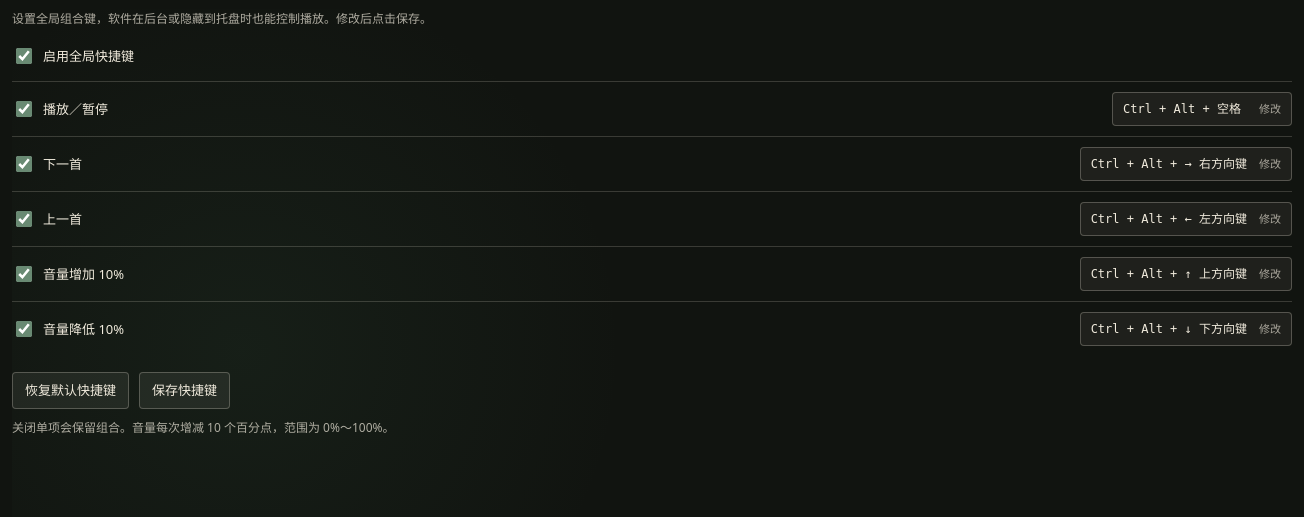
Scenario: keeps drafts after a conflict, reports failure, and allows retry
expect the button "保存快捷键" is enabled: met, box [139,372,230,409]
Click the checkbox named "启用下一首快捷键": (24, 164) [16,156,32,172]
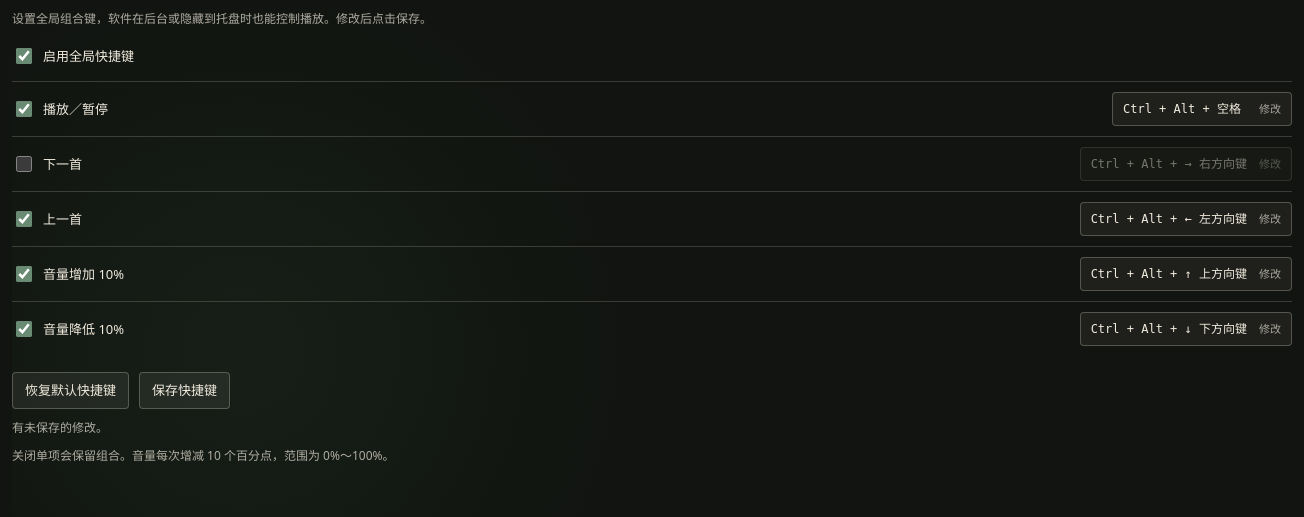
Click the button "保存快捷键": (184, 391) [139,372,230,409]
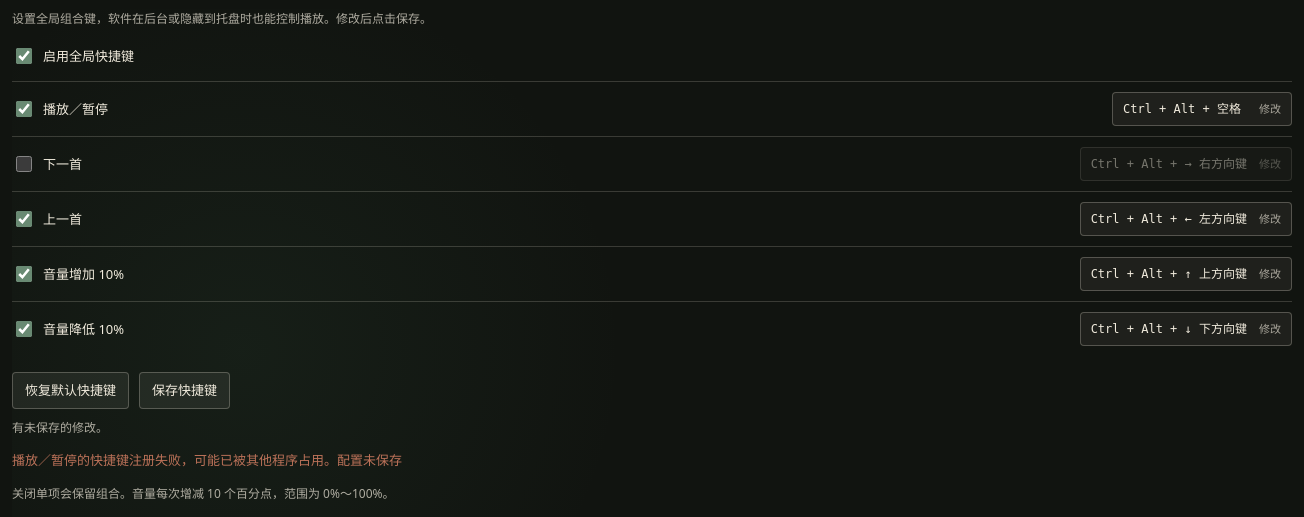
expect the text "快捷键已保存并生效" is not shown: met
expect the checkbox named "启用下一首快捷键" is not checked: met, box [16,156,32,172]
expect the message shows "配置未保存": met, box [12,451,402,469]
Click the button "保存快捷键": (184, 391) [139,372,230,409]
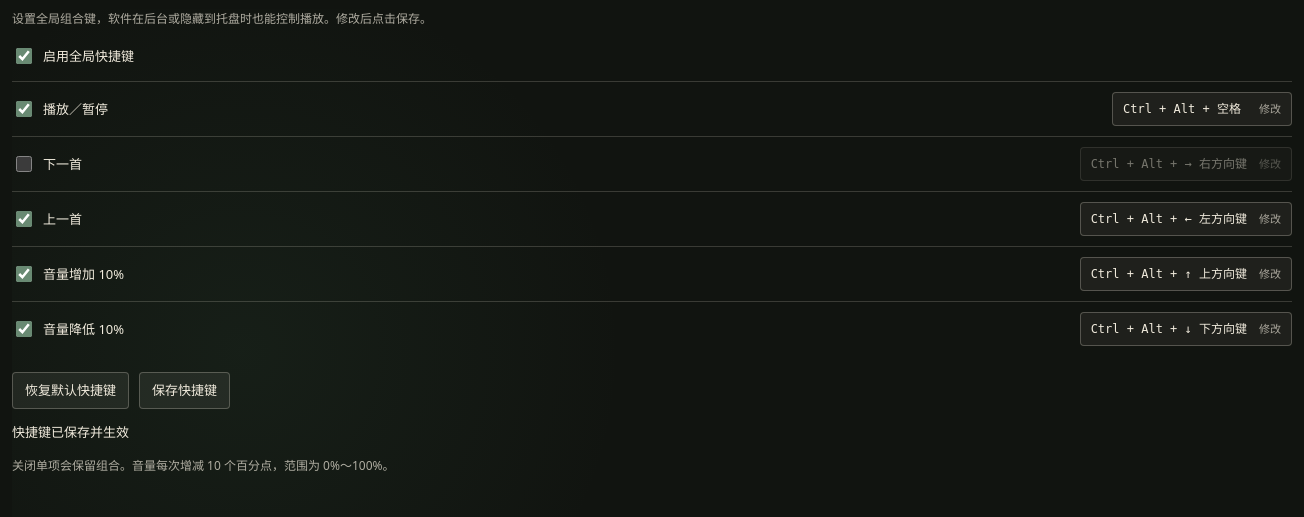
expect the text "快捷键已保存并生效" is shown: met, box [12,423,129,441]
